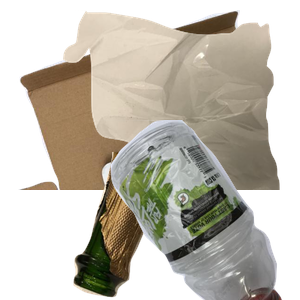cardboard: (16, 10, 256, 190)
glass: (71, 152, 260, 300)
plastic: (73, 120, 300, 300)
trash: (61, 10, 300, 190)
